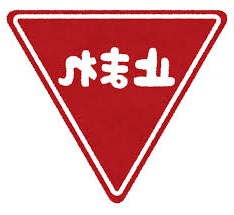Regulatory_sign_triangle: (3, 5, 228, 201)
